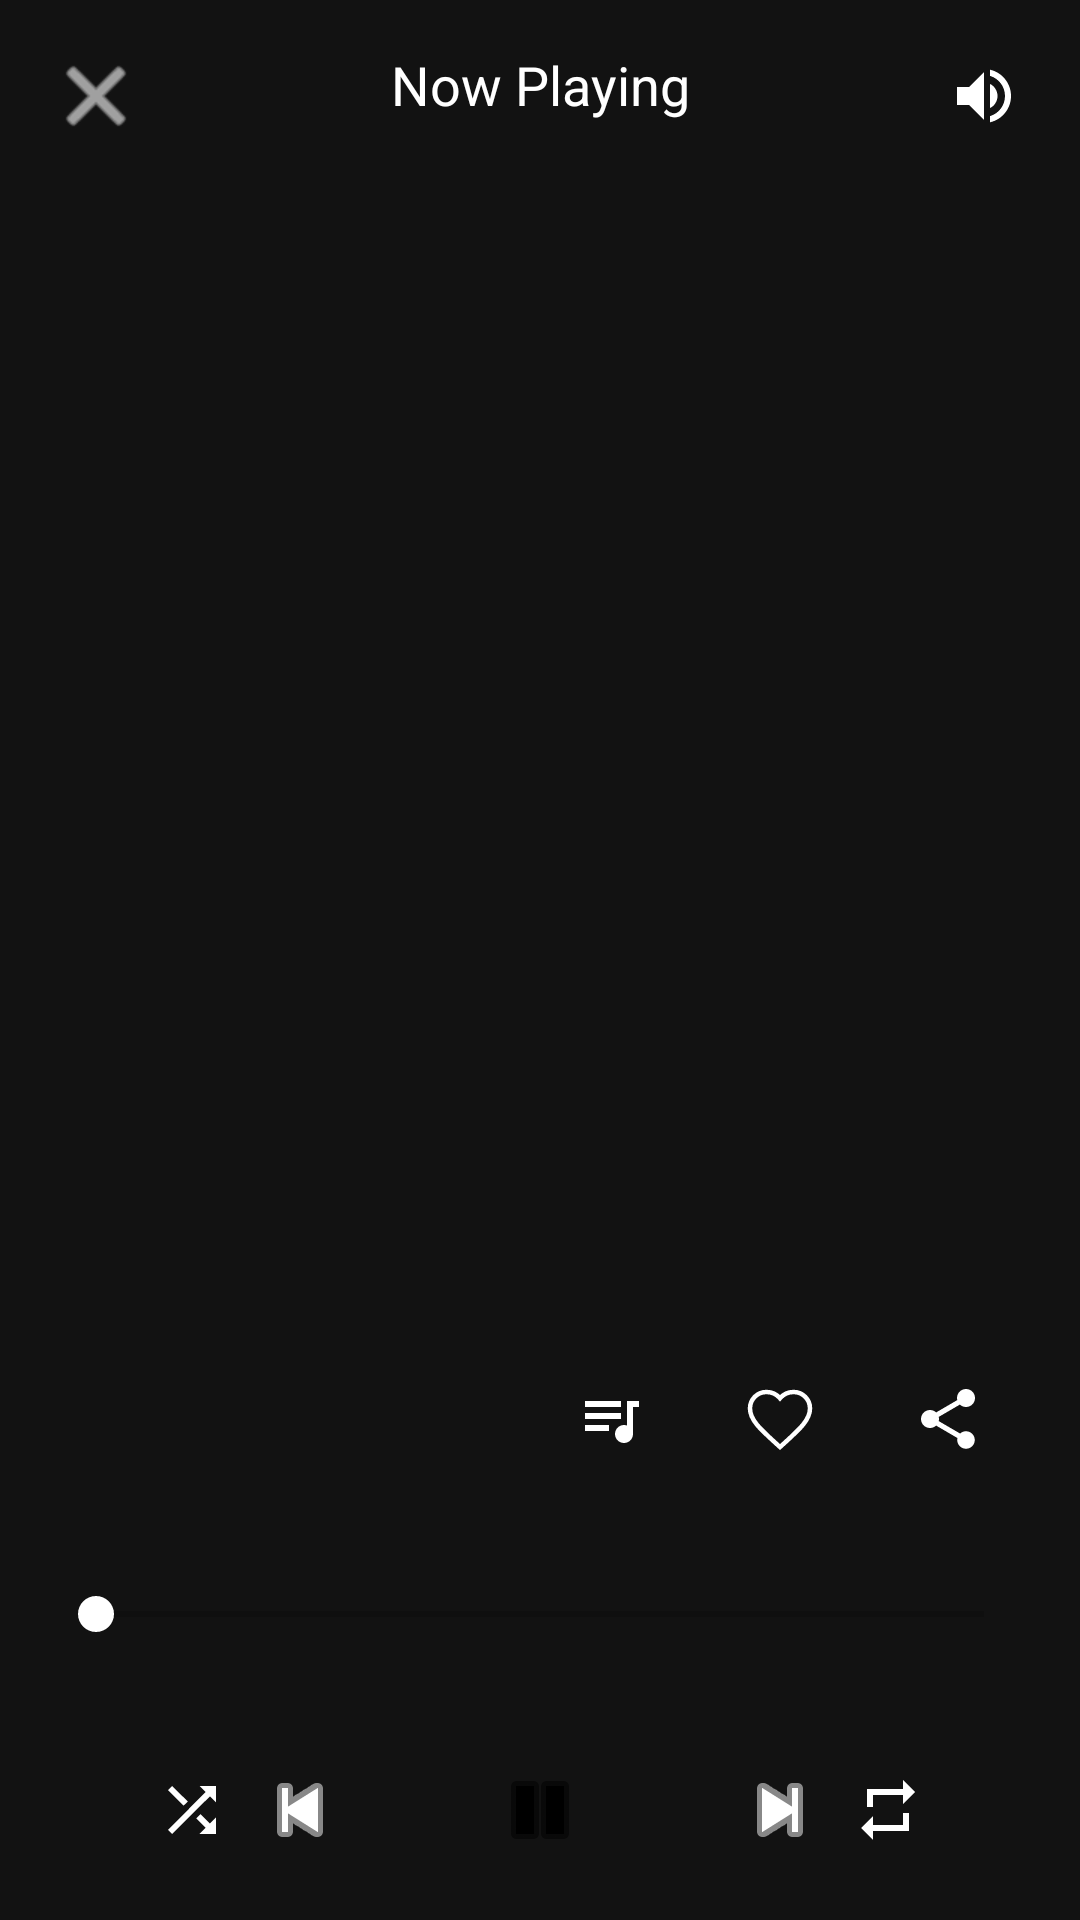

Icon bounding boxes for this 1080w x 1920h phone screenshot, format (x1, y1, x2, y2):
Audio Output: (957, 69, 1011, 123)
close clear cancel: (66, 66, 126, 126)
Favorite song: (747, 1389, 813, 1450)
next: (757, 1783, 803, 1837)
previous: (277, 1783, 323, 1837)
Queue: (585, 1401, 639, 1443)
Share song: (921, 1389, 975, 1449)
shuffle: (168, 1786, 216, 1834)
Toggle repeat mode: (861, 1780, 915, 1840)
